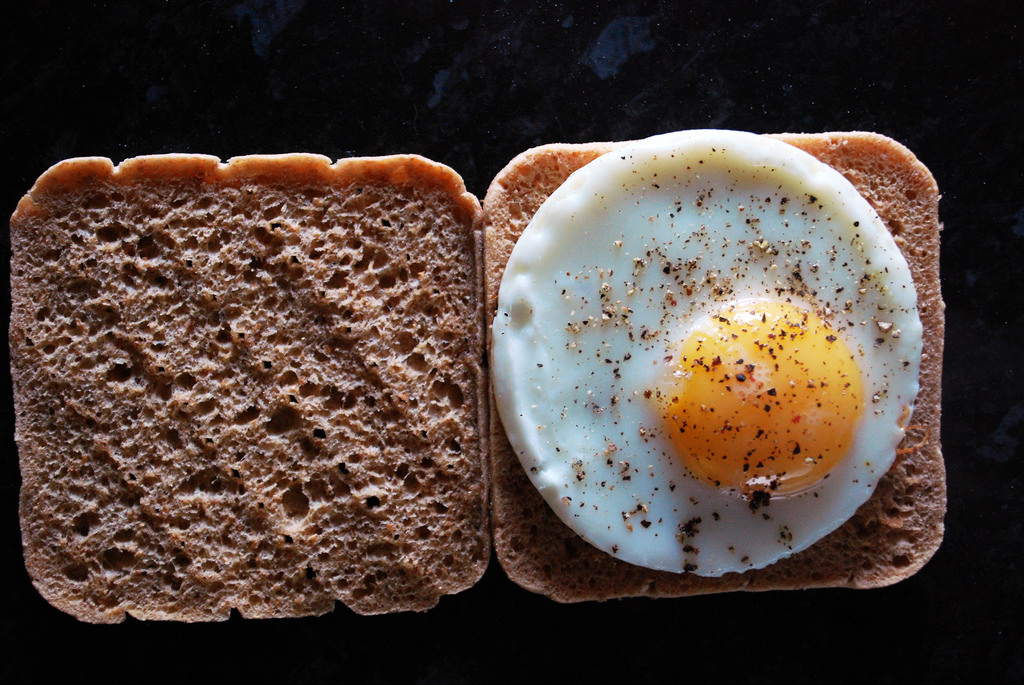fried egg: (525, 166, 904, 546)
slice of bread: (477, 103, 957, 597), (16, 123, 486, 618)
